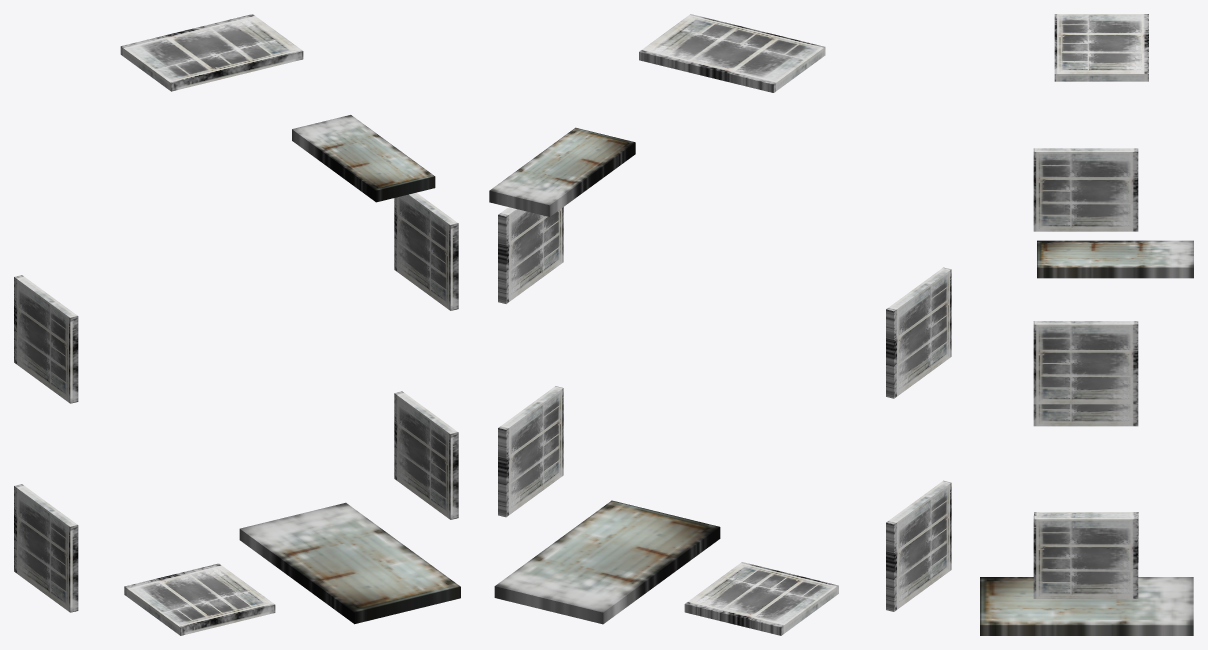
File: domiclePortalParts_wtf.obj
3 renders of one model, left to right at view 1: azimuth 30°, elevation 25°; view 2: azimuth 150°, elevation 25°; view 3: azimuth 270°, elevation 25°, orthographic. The views are drawn at different scales.
Parts seen in each view (by area): view 1: group15, group6, group8, group7, group5, group4, group2, group3; view 2: group15, group6, group8, group7, group2, group4, group5, group3; view 3: group15, group4, group2, group3, group6, group8, group5, group7.
Boxes of the visible parts, x1,y1,x2,y2 form: group15: [239, 502, 460, 624]; group6: [120, 14, 303, 91]; group8: [292, 115, 435, 202]; group7: [124, 563, 275, 635]; group5: [14, 484, 78, 612]; group4: [14, 275, 78, 403]; group2: [394, 391, 458, 519]; group3: [394, 192, 458, 310]; group15: [494, 500, 720, 624]; group6: [639, 14, 825, 92]; group8: [489, 127, 635, 216]; group7: [684, 562, 838, 635]; group2: [498, 386, 563, 517]; group4: [886, 267, 951, 398]; group5: [886, 480, 951, 611]; group3: [498, 207, 563, 303]; group15: [980, 577, 1193, 635]; group4: [1033, 148, 1138, 231]; group2: [1033, 515, 1138, 598]; group3: [1033, 321, 1138, 404]; group6: [1054, 14, 1148, 81]; group8: [1037, 240, 1193, 278]; group5: [1033, 404, 1138, 426]; group7: [1034, 512, 1138, 562].
Bounding box in the file's own units: 491 × 660 × 252.
